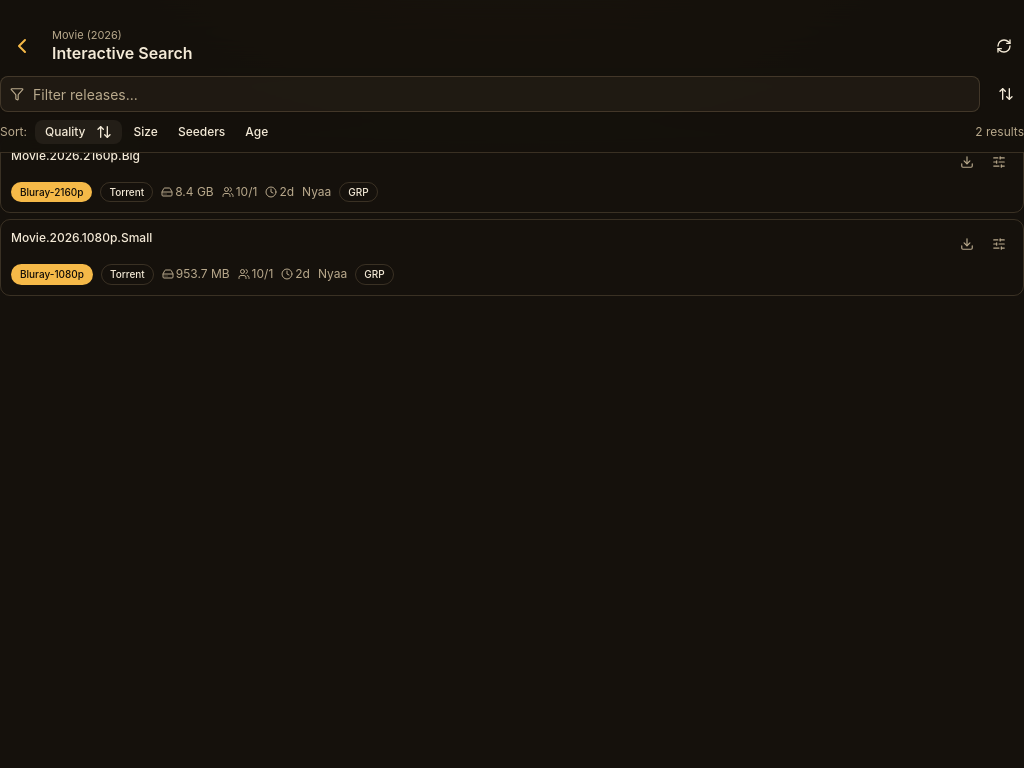
Test: InteractiveSearch page › grabs with another download client from the override dialog
The image size is (1024, 768).
Click the button named "Override and add to download queue" in the row of "Movie.2026.2160p.Big" at (999, 162), box [985,148,1013,176]
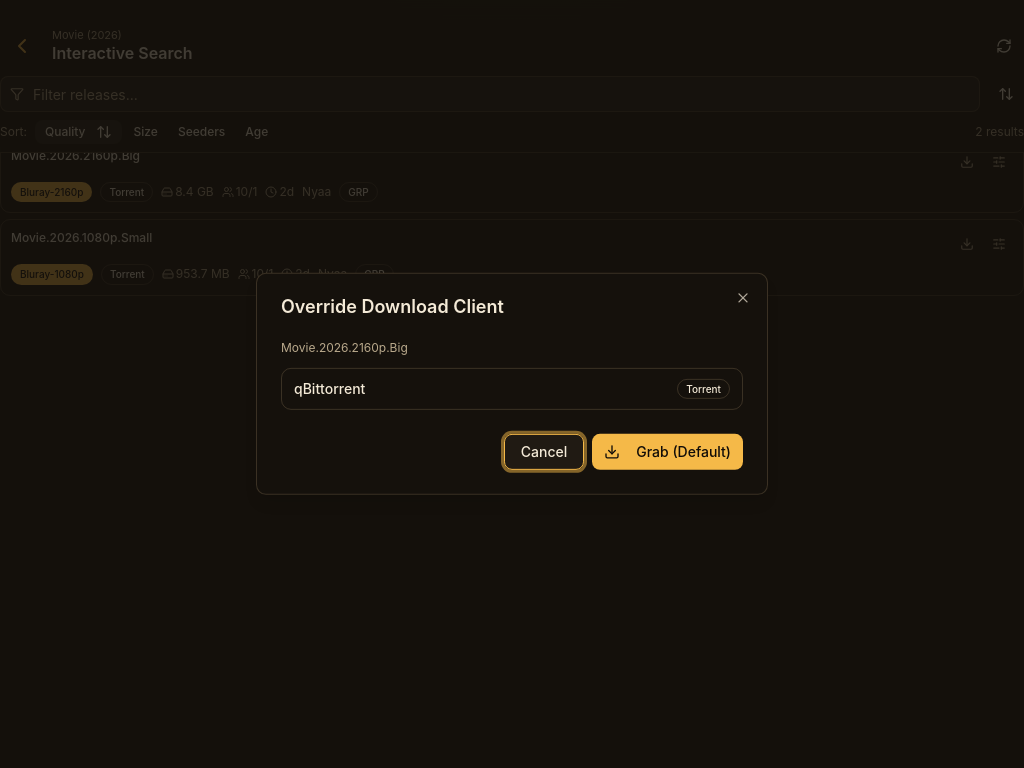
Click the button "qBittorrent torrent" at (330, 388), box [281,368,743,410]
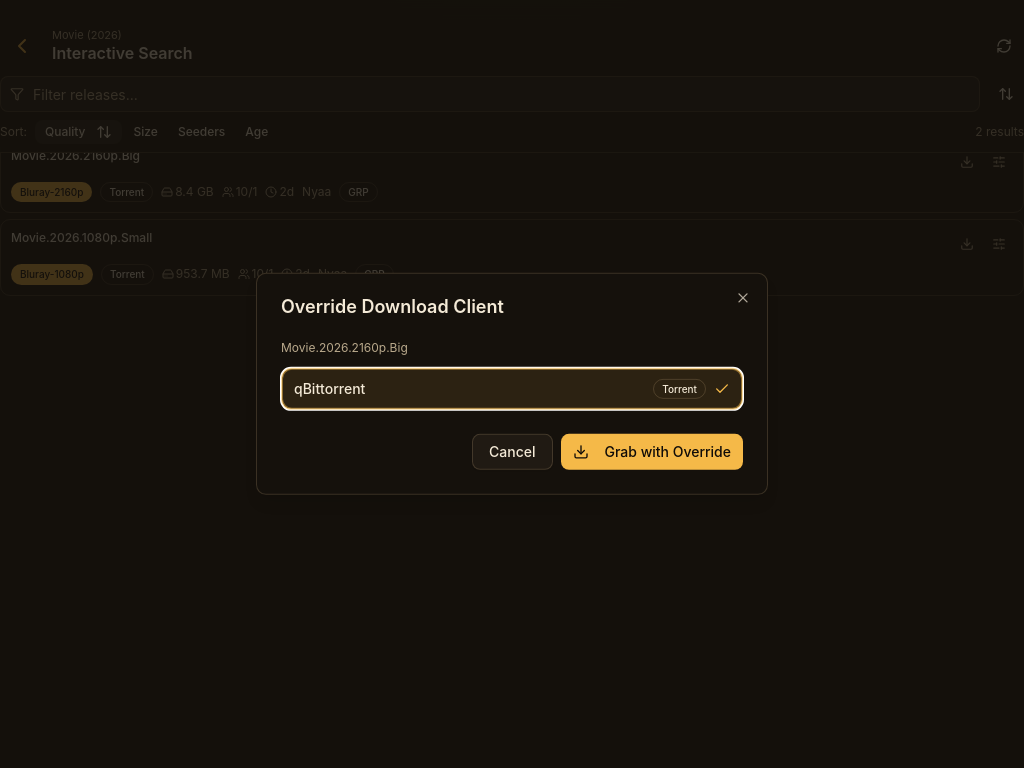
Click the button "Grab with Override" at (652, 452), box [560,434,743,470]
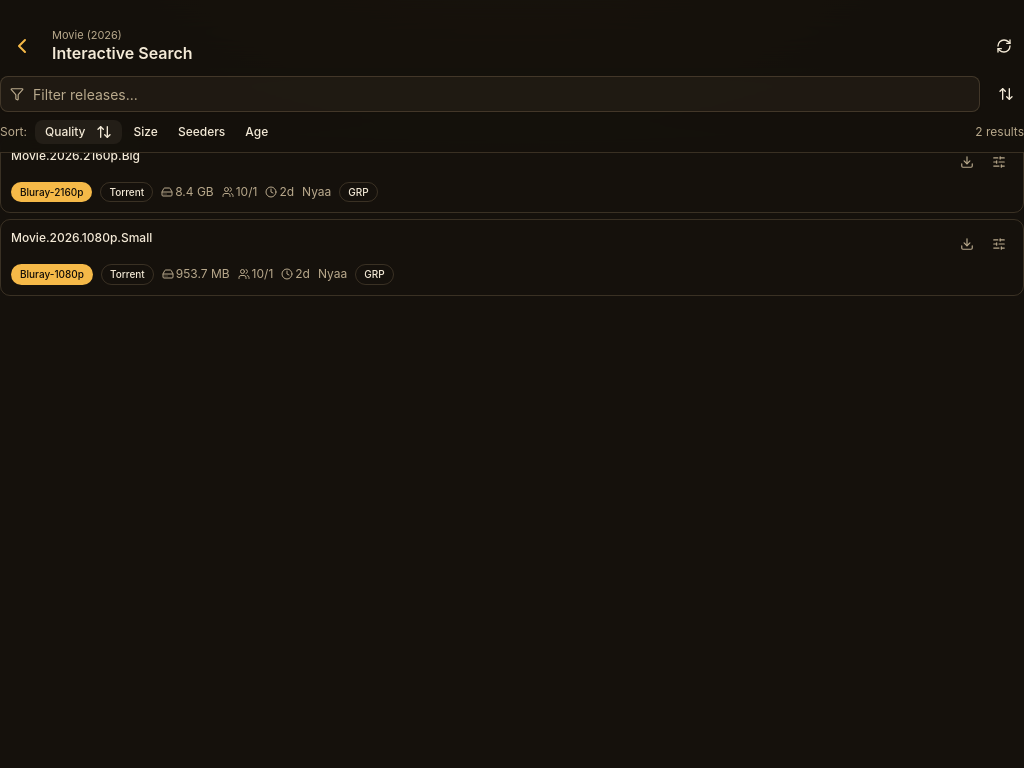
Expected: the heading "Override Download Client" is gone
